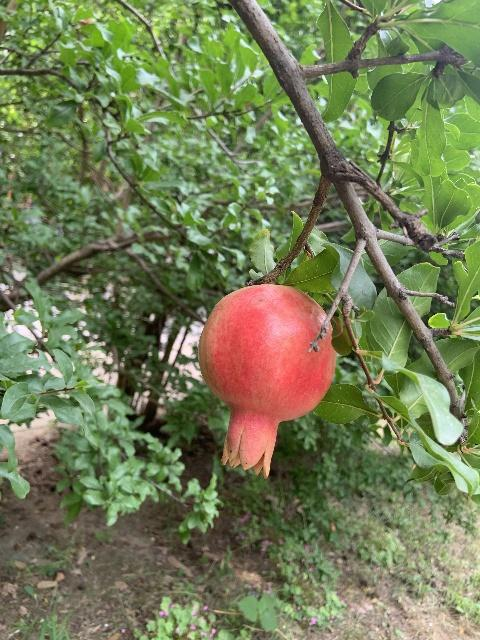ripe: (197, 284, 337, 478)
